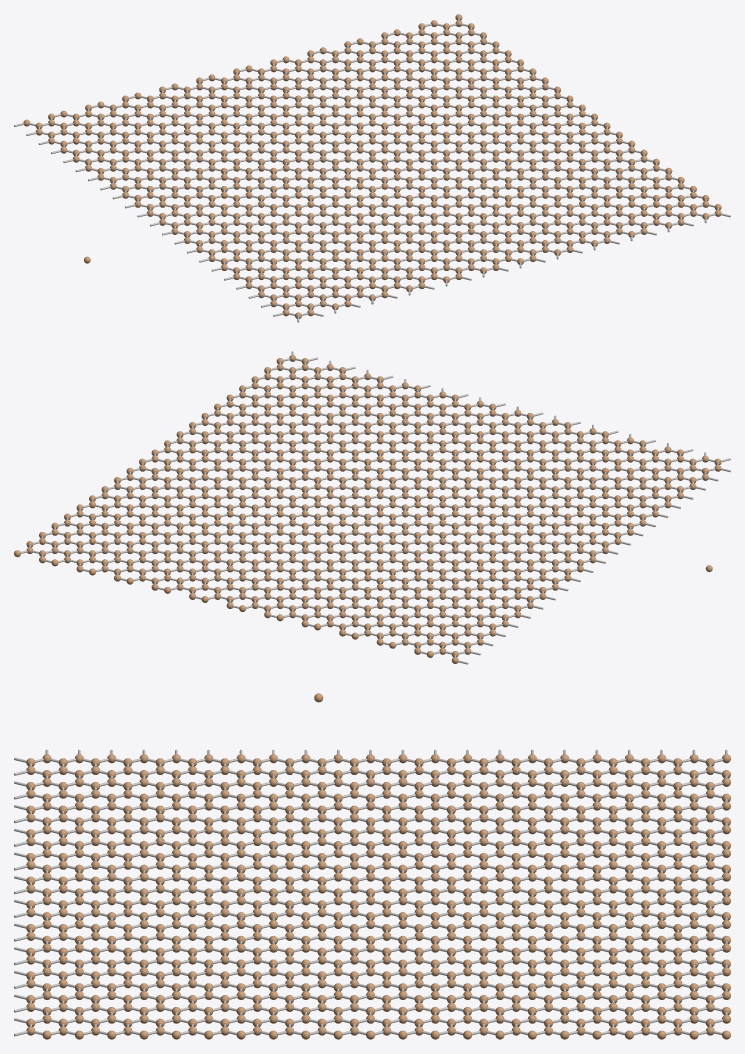
The model's file is graphene_flat_mod_pivot (1).fbx.
3 views of the same model, one above another, from view 1: azimuth 30°, elevation 25°; view 2: azimuth 150°, elevation 25°; view 3: azimuth 270°, elevation 25° (orthographic). The views are drawn at different scales.
Visible parts, largest first — view 1: graphene_flat_mod:graphene_flat_atoms, graphene_flat_mod:graphene_flat_bonds; view 2: graphene_flat_mod:graphene_flat_atoms, graphene_flat_mod:graphene_flat_bonds; view 3: graphene_flat_mod:graphene_flat_atoms, graphene_flat_mod:graphene_flat_bonds.
Boxes of the visible parts, x1,y1,x2,y2 form: graphene_flat_mod:graphene_flat_atoms: (23, 14, 721, 318); graphene_flat_mod:graphene_flat_bonds: (14, 18, 730, 322); graphene_flat_mod:graphene_flat_atoms: (14, 355, 721, 663); graphene_flat_mod:graphene_flat_bonds: (20, 351, 730, 664); graphene_flat_mod:graphene_flat_atoms: (26, 754, 730, 1039); graphene_flat_mod:graphene_flat_bonds: (14, 749, 727, 1036).
Size of the model in its own units: 613 by 7 by 545.
